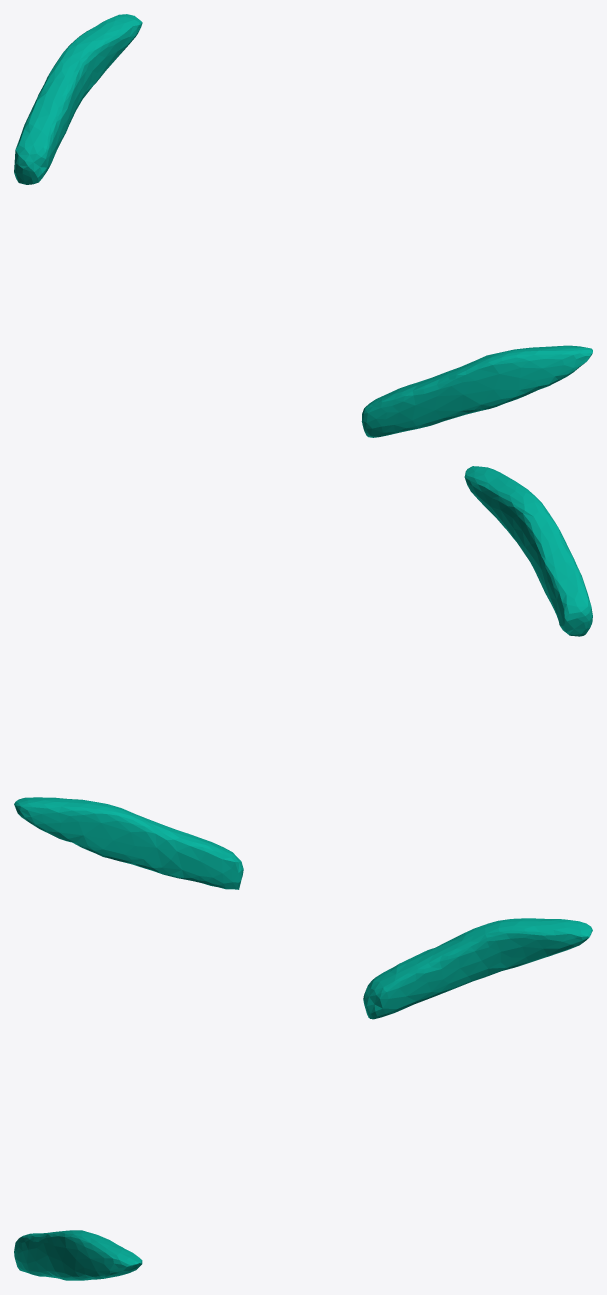
The picture shows the model from 3 angles, top to bottom: view 1: azimuth 30°, elevation 25°; view 2: azimuth 150°, elevation 25°; view 3: azimuth 330°, elevation 25°; orthographic projection.
Parts seen in each view (by area): view 1: 638.obj; view 2: 638.obj; view 3: 638.obj.
Boxes of the visible parts, left/top/right/bottom form: 638.obj: left=14, top=14, right=592, bottom=437; 638.obj: left=14, top=466, right=592, bottom=889; 638.obj: left=14, top=918, right=592, bottom=1280.
Bounding box in the file's own units: 1752 × 867 × 7978.
